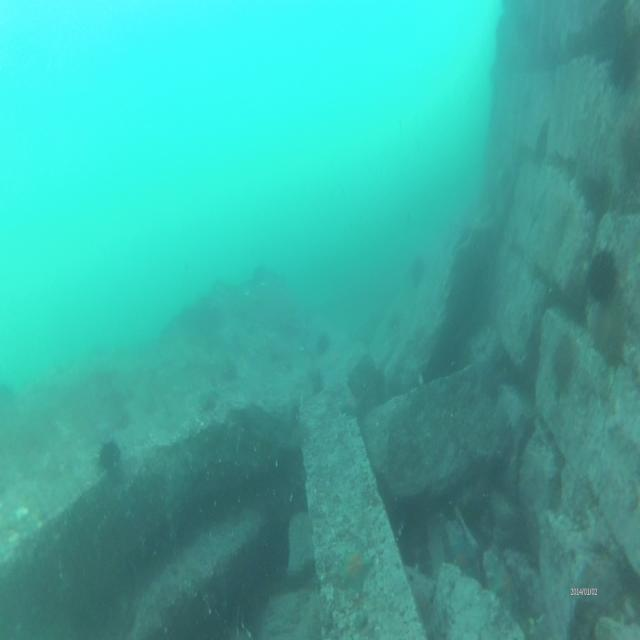echinus: (586, 255, 620, 301), (604, 41, 632, 84), (97, 446, 121, 470), (316, 333, 334, 358)
starfish: (336, 539, 374, 592)
